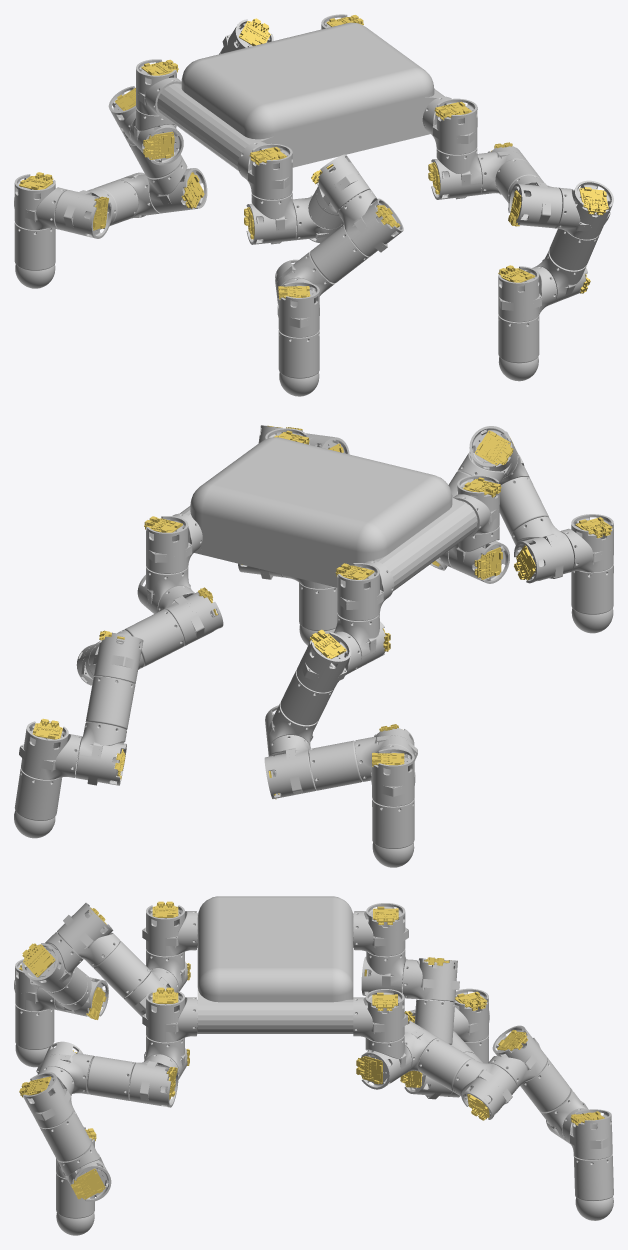
The model's file is RoboSimianMimic.glb.
3 views of the same model, one above another, from view 1: azimuth 30°, elevation 25°; view 2: azimuth 150°, elevation 25°; view 3: azimuth 270°, elevation 25° (orthographic). The views are drawn at different scales.
Parts seen in each view (by area): view 1: RoboSimianMimic glb; view 2: RoboSimianMimic glb; view 3: RoboSimianMimic glb.
Boxes of the visible parts, x1,y1,x2,y2 form: RoboSimianMimic glb: (14, 14, 613, 396); RoboSimianMimic glb: (14, 425, 613, 867); RoboSimianMimic glb: (14, 896, 613, 1235).
Bounding box in the file's own units: 72.64 × 49.66 × 107.
